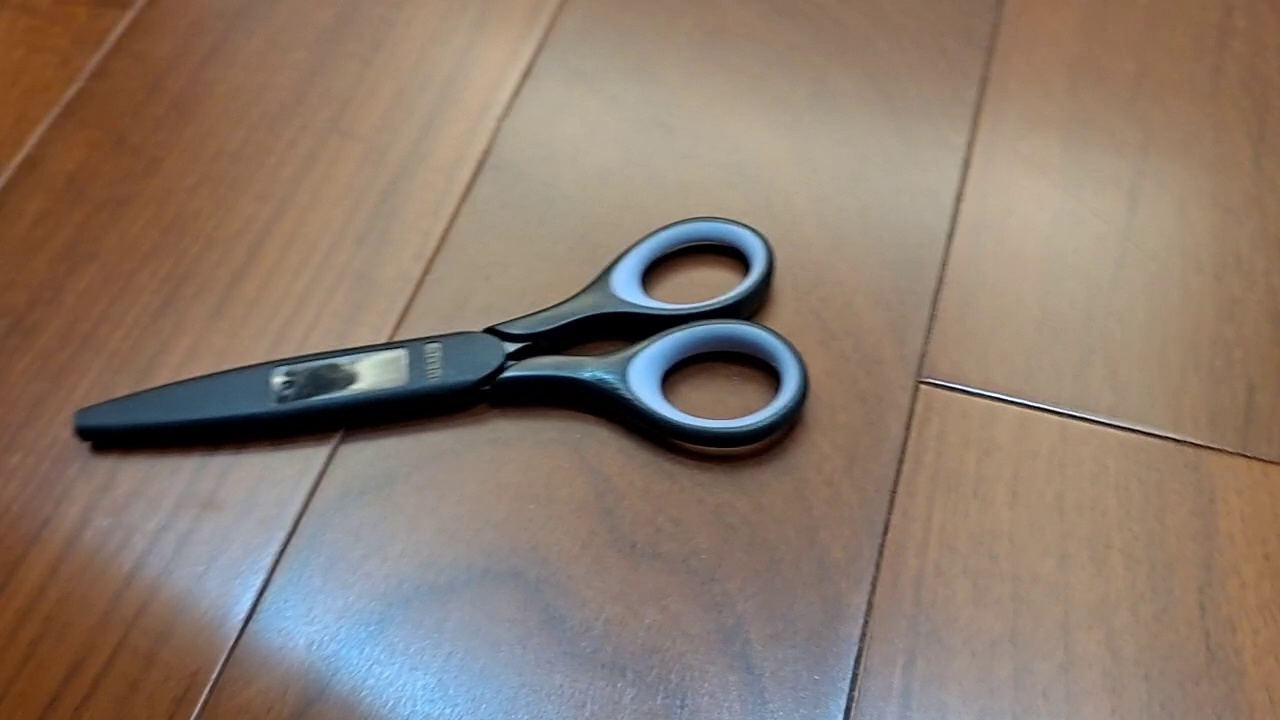scissors: (72, 212, 811, 457)
